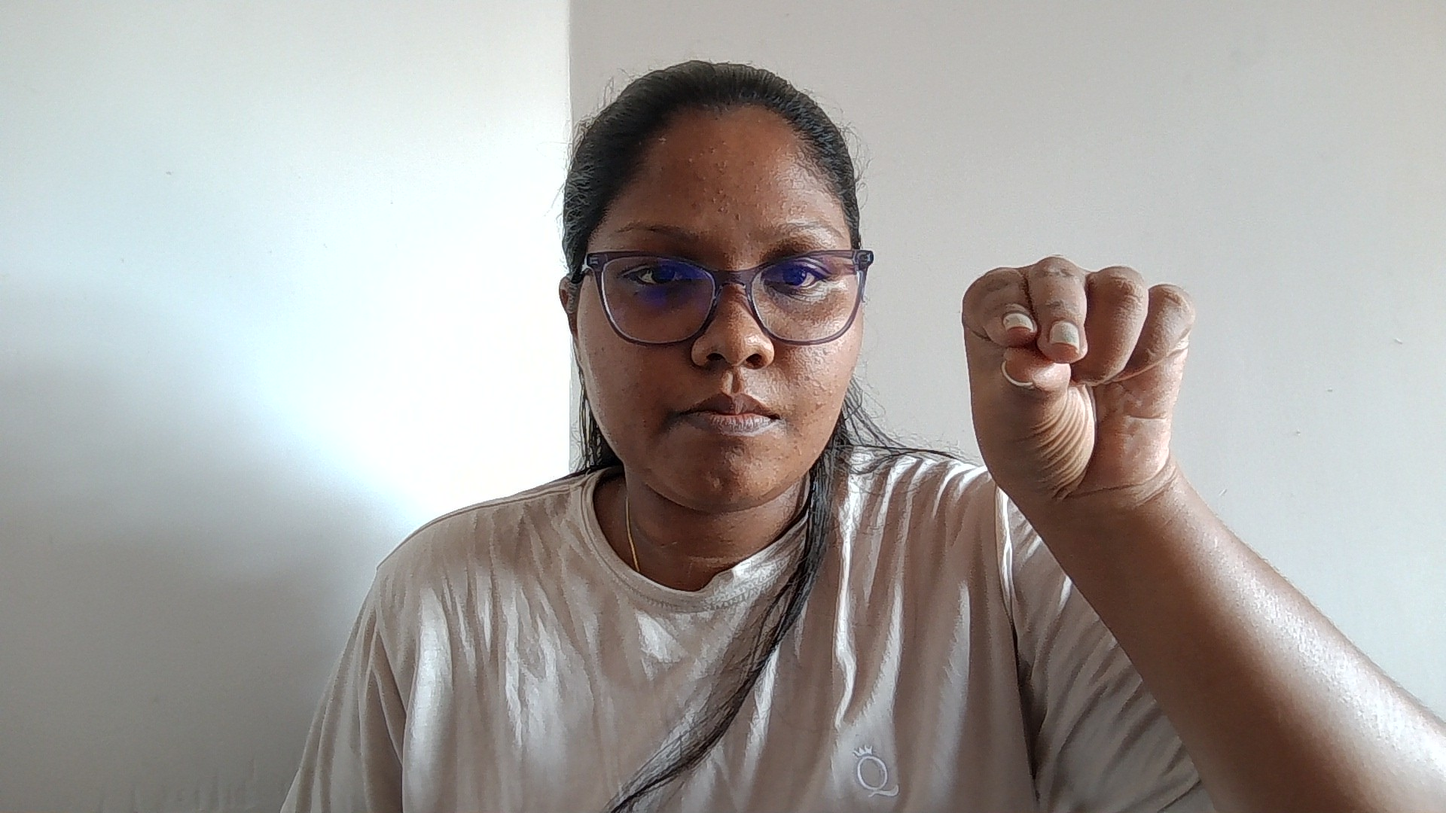No: (900, 196, 1286, 555)
